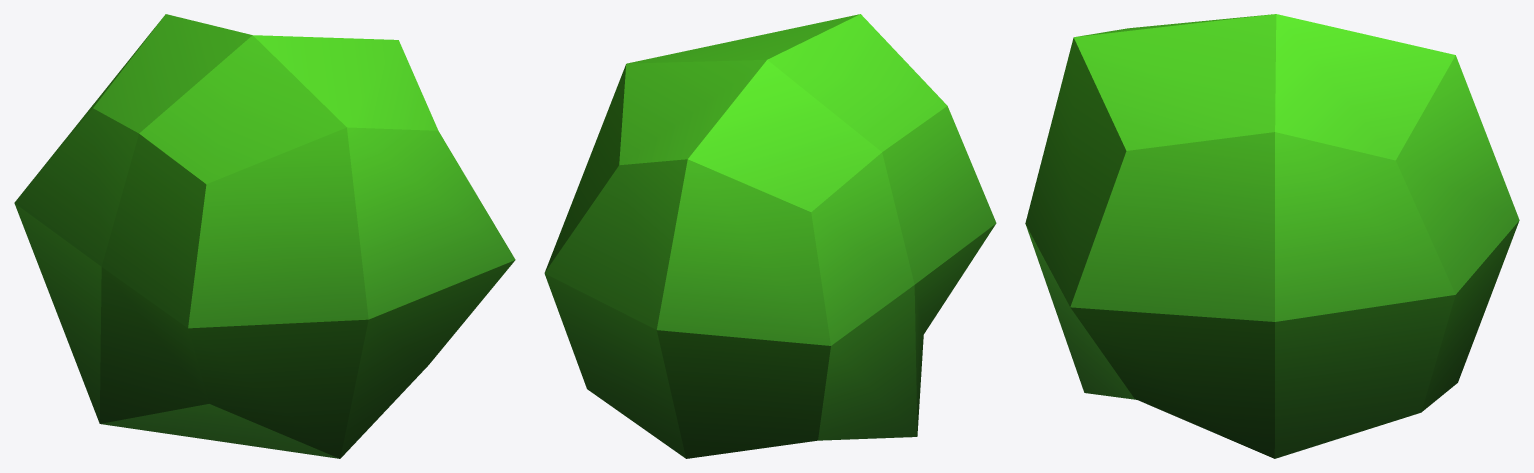
File: Bush_Small.fbx
3 renders of one model, left to right at view 1: azimuth 30°, elevation 25°; view 2: azimuth 150°, elevation 25°; view 3: azimuth 270°, elevation 25°, orthographic. The views are drawn at different scales.
Visible parts, largest first — view 1: Bush_Small; view 2: Bush_Small; view 3: Bush_Small.
Boxes of the visible parts, x1,y1,x2,y2 form: Bush_Small: (14, 14, 515, 458); Bush_Small: (544, 14, 996, 458); Bush_Small: (1025, 14, 1519, 458).
Size of the model in its own units: 146 by 151 by 167.
